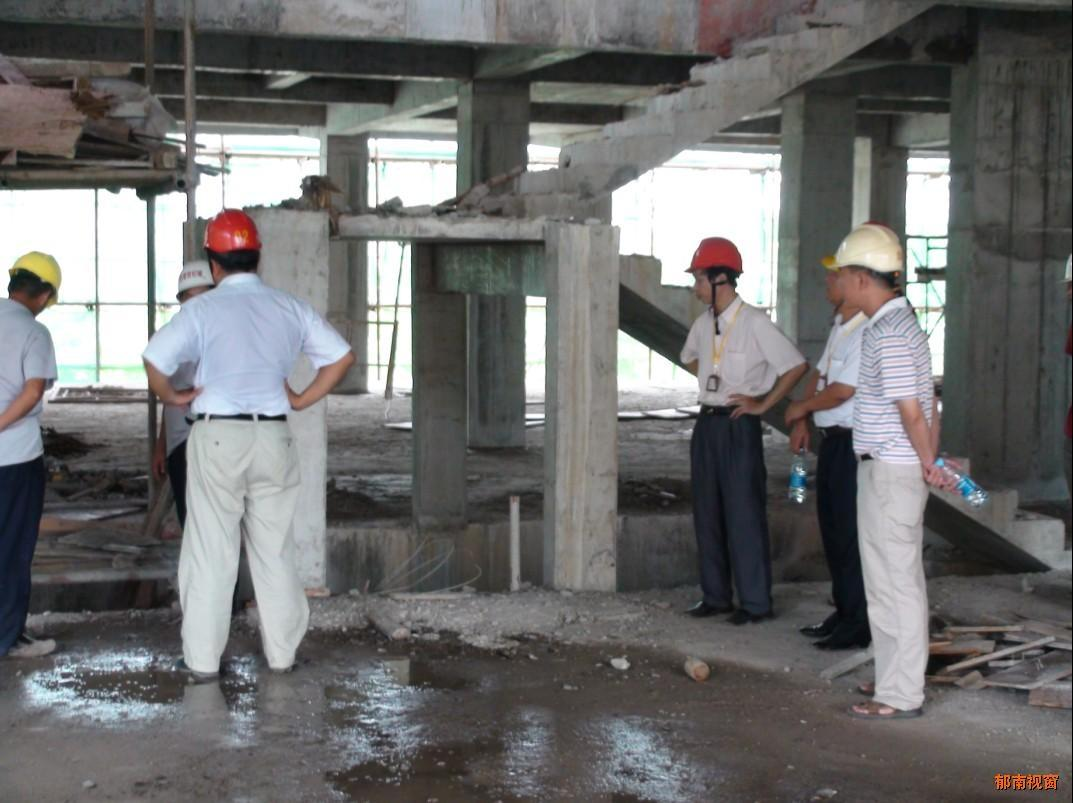helmet: (823, 219, 905, 276), (201, 208, 267, 258), (5, 250, 68, 299), (688, 234, 746, 275)
no_wear: (824, 309, 925, 465), (193, 279, 295, 419), (690, 310, 778, 418), (0, 310, 47, 470)
